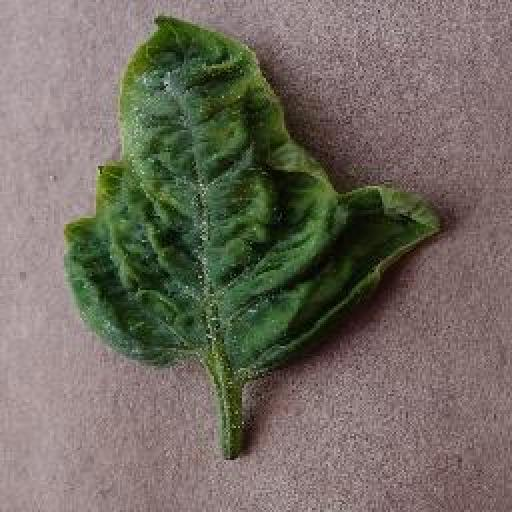disease_tomato: (61, 11, 444, 388)
